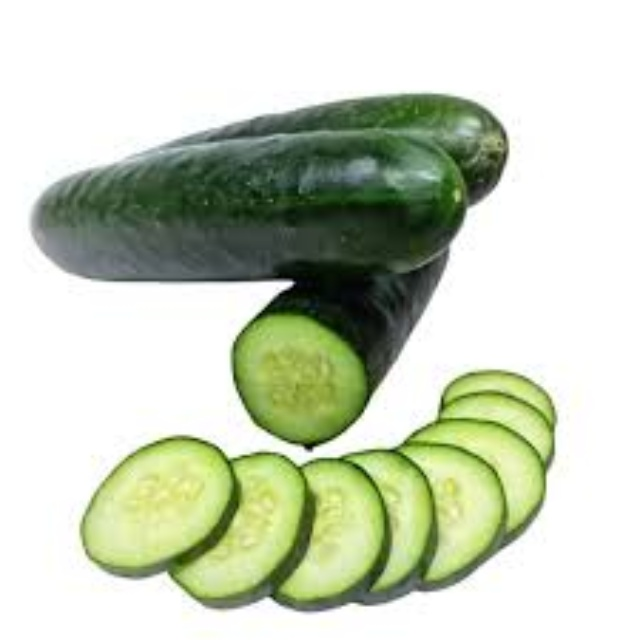dua_leo: (26, 123, 474, 292)
